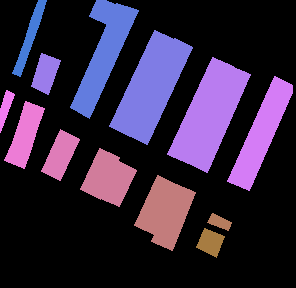parkingspot: (70, 3, 138, 118), (227, 76, 292, 190), (167, 57, 233, 163), (109, 30, 174, 136), (128, 38, 192, 144), (186, 66, 250, 172), (151, 184, 195, 250), (4, 101, 44, 168), (134, 175, 178, 235), (12, 0, 46, 76), (80, 148, 119, 199), (41, 129, 79, 180), (100, 160, 136, 206), (31, 53, 60, 94), (196, 228, 224, 257), (89, 0, 115, 24), (0, 90, 14, 132), (207, 213, 231, 230)
